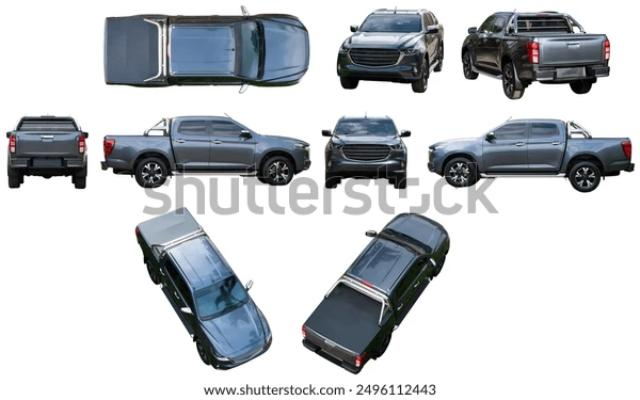pickup-truck: (132, 204, 282, 373), (299, 213, 451, 373), (95, 10, 310, 94), (103, 115, 307, 190), (428, 118, 632, 193), (457, 9, 610, 98), (336, 7, 443, 93), (4, 109, 92, 194), (321, 113, 410, 190)
